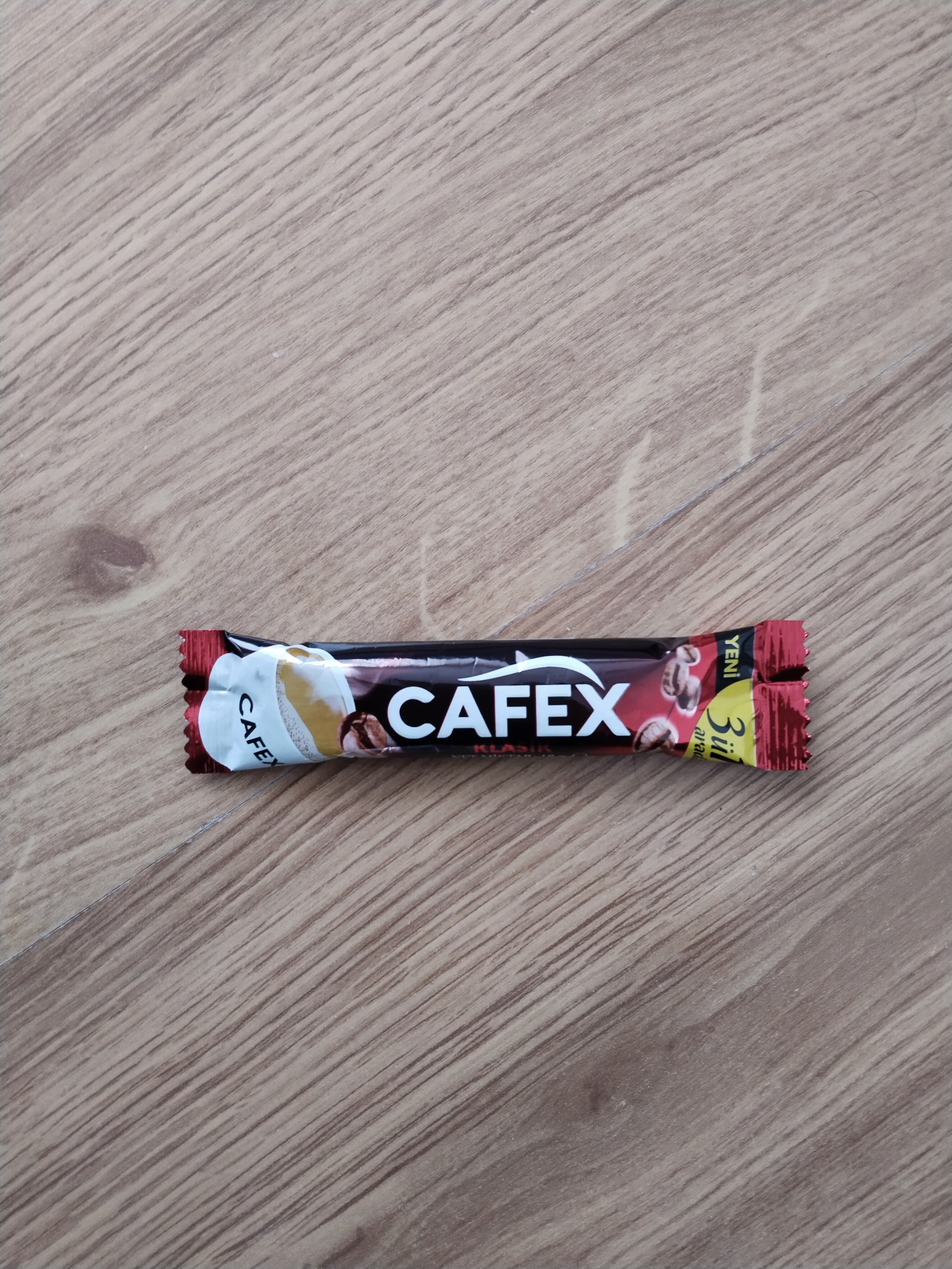cafex_kahve: (180, 620, 810, 774)
